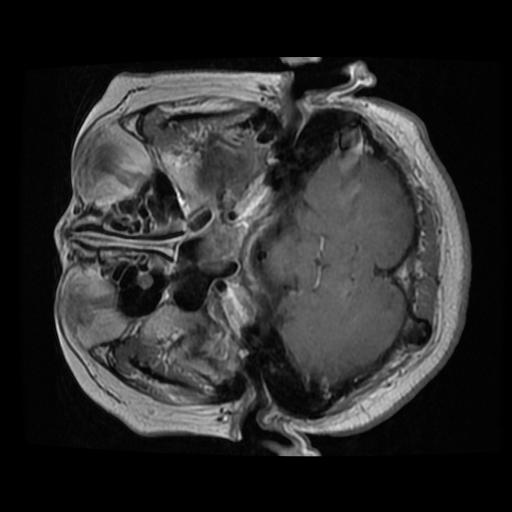pituitary tumour: (198, 222, 241, 274)
